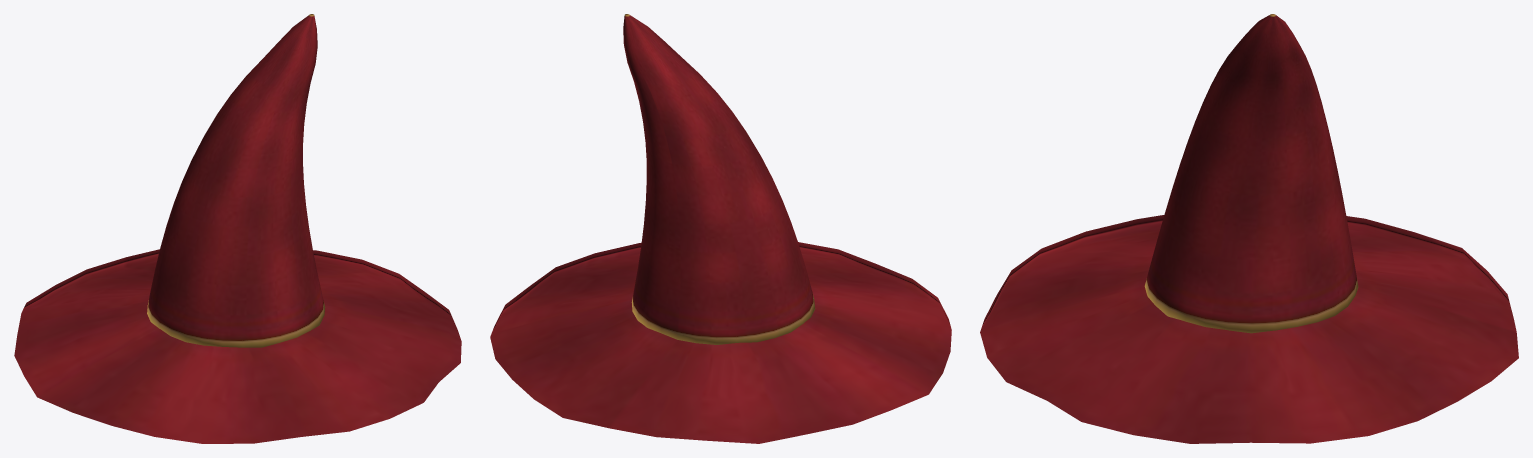
File: crimson_pointed_head.glb
3 views of the same model, side by side, from view 1: azimuth 30°, elevation 25°; view 2: azimuth 150°, elevation 25°; view 3: azimuth 270°, elevation 25° (orthographic). The views are drawn at different scales.
Visible parts, largest first — view 1: crimson_pointed_head; view 2: crimson_pointed_head; view 3: crimson_pointed_head.
Boxes of the visible parts, box(x1,y1,x2,y2) form: crimson_pointed_head: box(14, 14, 461, 443); crimson_pointed_head: box(490, 14, 951, 443); crimson_pointed_head: box(980, 14, 1518, 443).
Bounding box in the file's own units: 0.55 × 0.4122 × 0.5494.
1 material, 1 textured.
